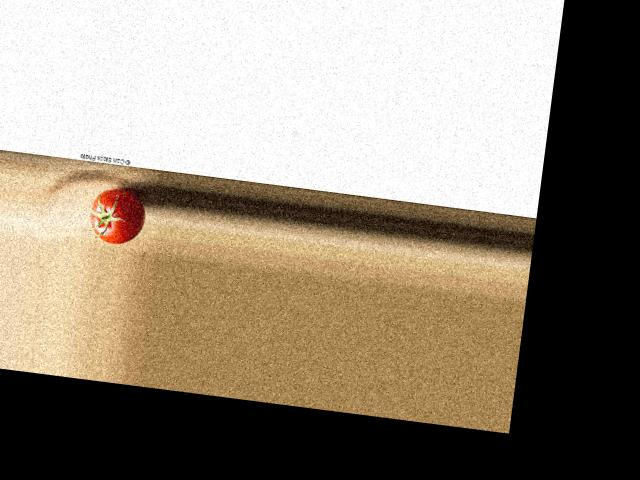tomato: (86, 186, 147, 245)
